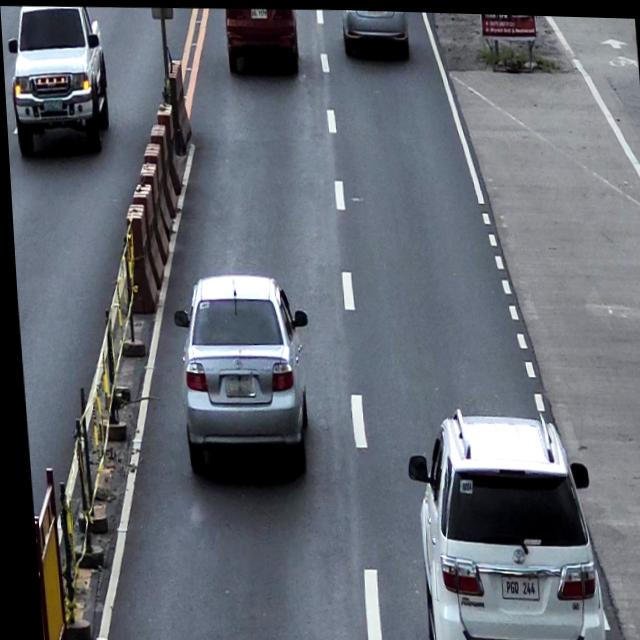Car: (396, 402, 599, 640), (165, 268, 316, 476), (4, 4, 112, 161), (223, 6, 301, 78), (340, 8, 411, 61)
License-Plate: (492, 568, 533, 598), (218, 371, 251, 395), (40, 97, 62, 112), (249, 7, 267, 18)
